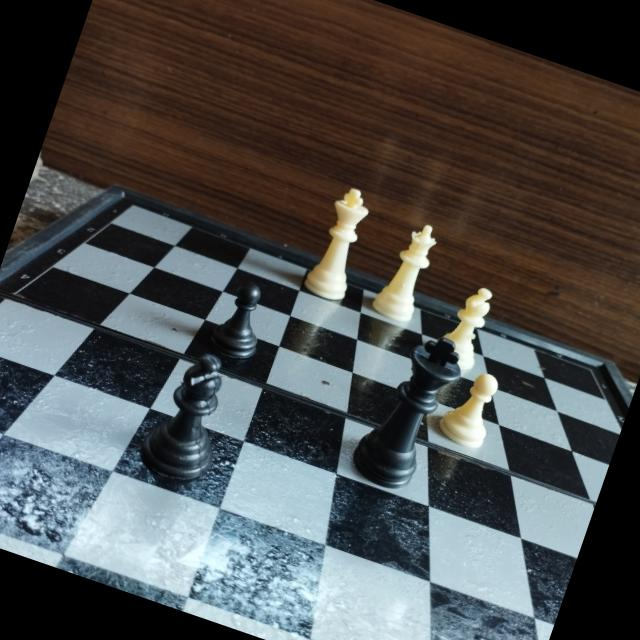Black Bishop: (130, 338, 248, 492)
Black King: (345, 318, 475, 500)
Black Pawn: (202, 269, 280, 368)
White Bishop: (434, 277, 501, 377)
White King: (294, 175, 384, 308)
White Pawn: (436, 360, 509, 458)
White Queen: (366, 212, 448, 332)
